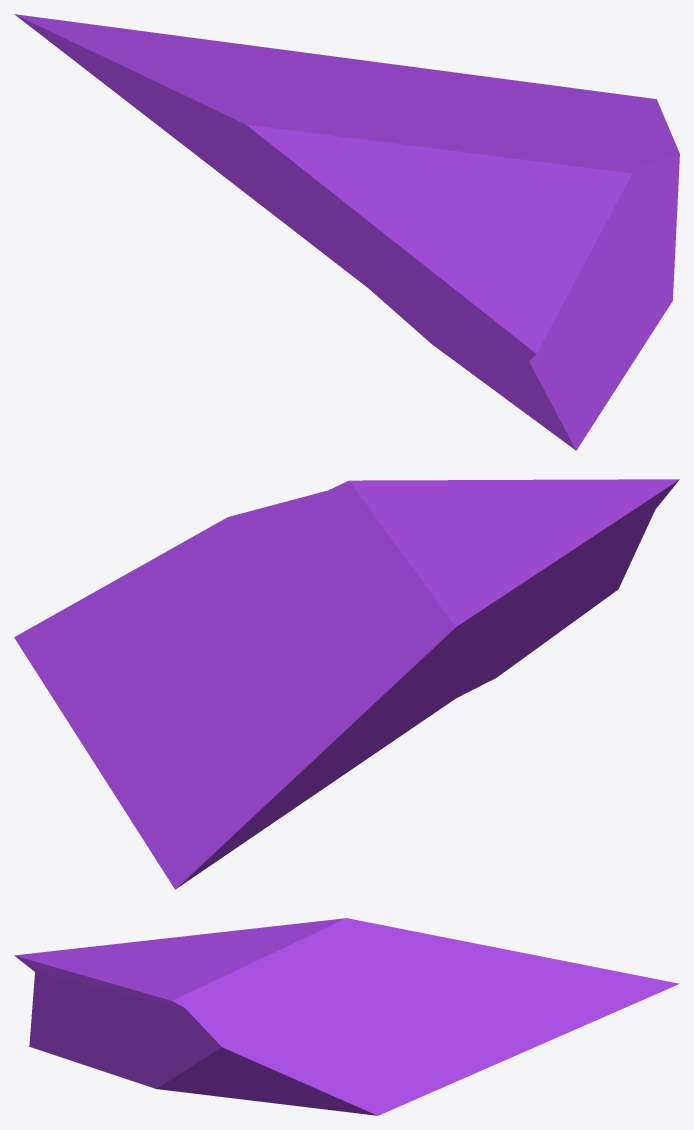
File: Glass_100_3_2_chunks.fbx
3 renders of one model, top to bottom at view 1: azimuth 30°, elevation 25°; view 2: azimuth 150°, elevation 25°; view 3: azimuth 270°, elevation 25°, orthographic. The views are drawn at different scales.
Parts seen in each view (by area): view 1: Glass_100_3_2_0; view 2: Glass_100_3_2_0; view 3: Glass_100_3_2_0.
Part boxes in pixels (x1=…): Glass_100_3_2_0: x1=14, y1=14, x2=679, y2=450; Glass_100_3_2_0: x1=14, y1=479, x2=679, y2=889; Glass_100_3_2_0: x1=14, y1=918, x2=679, y2=1115.
Size of the model in its own units: 131 by 46.87 by 273.
